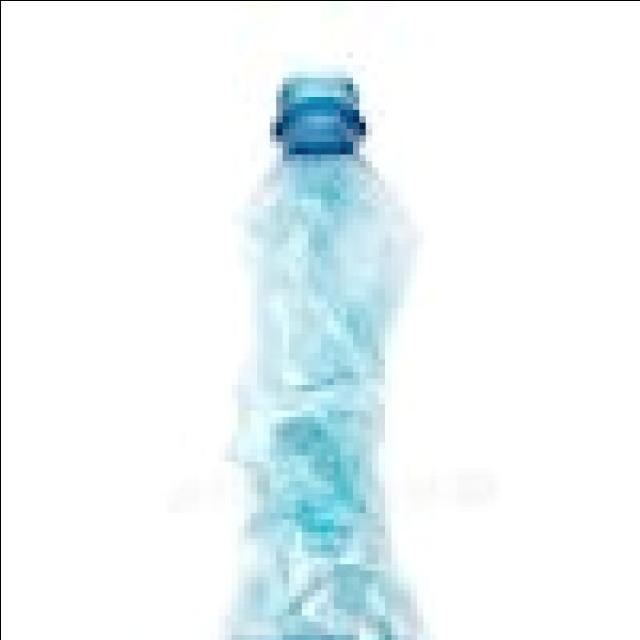defected: (186, 48, 456, 634)
